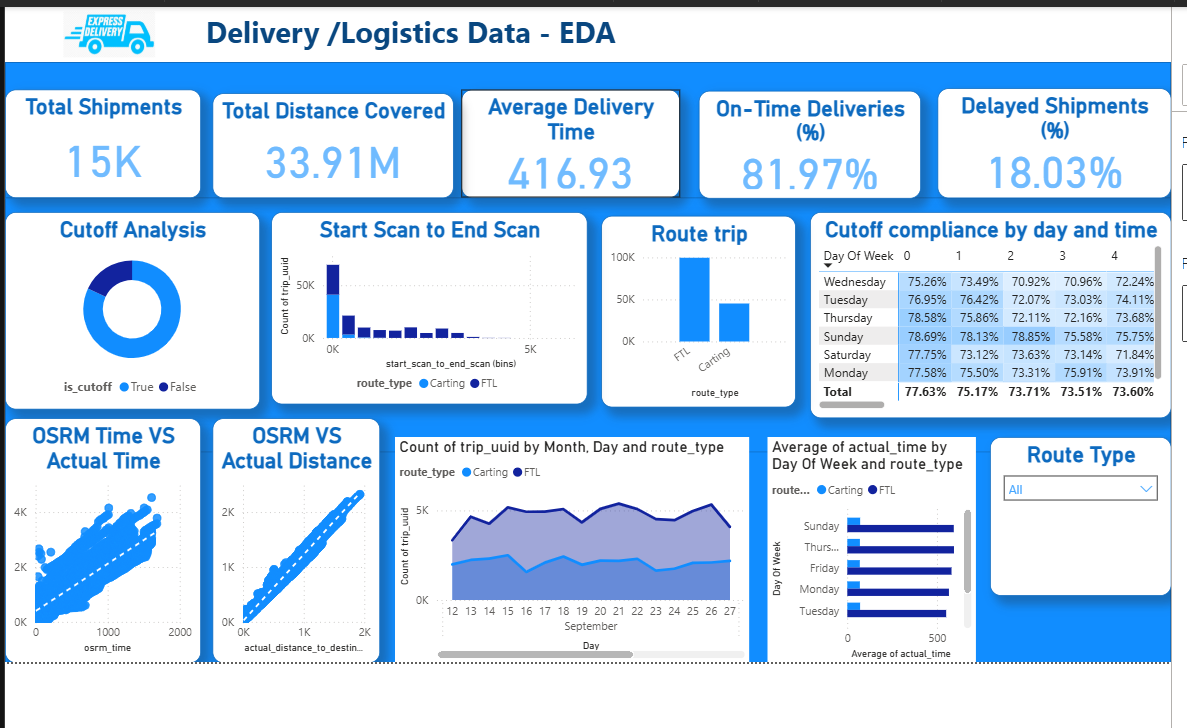

What the dashboard file says about the page in this screenshot:
{"tool":"powerbi","page":{"name":"Delivery Data EDA","canvas":[1280,720],"ordinal":0},"visuals":[{"type":"shape","box":[0,419.2,1280,301],"z":0},{"type":"shape","box":[0,187.8,1280,301],"z":1000},{"type":"shape","box":[0,59.9,1280,149.7],"z":2000},{"type":"card","title":"Total Shipments","fields":{"Values":["Delhivery.Total Shipments"]},"box":[0,77,215.2,119.7],"z":3000},{"type":"card","title":"Average Delivery Time","fields":{"Values":["Avg(Delhivery.actual_time)"]},"box":[493.2,75.5,239.5,119.7],"z":4000},{"type":"card","title":"Delayed Shipments (%)","fields":{"Values":["Delhivery.On-Time Deliveries (%)"]},"box":[1023.4,75.5,256.6,119.7],"z":5000},{"type":"card","title":"On-Time Deliveries (%)","fields":{"Values":["Delhivery.On-Time Deliveries (%)"]},"box":[761.2,75.5,245.2,119.7],"z":6000},{"type":"card","title":"Total Distance Covered","fields":{"Values":["Sum(Delhivery.actual_distance_to_destination)"]},"box":[215.2,75.5,265.1,119.7],"z":7000},{"type":"image","box":[0,0,228.1,59.9],"z":8000},{"type":"textbox","box":[215.2,0,1064.8,59.9],"z":9000},{"type":"donutChart","title":"Cutoff Analysis","fields":{"Category":["Delhivery.is_cutoff"],"Y":["CountNonNull(Delhivery.trip_uuid)"]},"box":[0,225.2,279.9,216.4],"z":10000},{"type":"pivotTable","title":"Cutoff compliance by day and time","fields":{"Rows":["Delhivery.Day Of Week"],"Columns":["Delhivery.Hour Of Day"],"Values":["Delhivery.On-Time Deliveries (%)"]},"box":[883.2,225.2,396.8,226.4],"z":11000},{"type":"scatterChart","title":"OSRM Time VS Actual Time","fields":{"X":["Delhivery.osrm_time"],"Y":["Delhivery.actual_time"]},"box":[0,451.6,215.2,268.7],"z":12000},{"type":"columnChart","title":"Route trip","fields":{"Category":["Delhivery.route_type"],"Y":["CountNonNull(Delhivery.trip_uuid)"]},"box":[654.3,228.9,214,210.2],"z":13000},{"type":"columnChart","title":"Start Scan to End Scan","fields":{"Category":["Delhivery.start_scan_to_end_scan (bins)"],"Y":["CountNonNull(Delhivery.trip_uuid)"],"Series":["Delhivery.route_type"]},"box":[292.3,225.2,347.1,211.5],"z":14000},{"type":"scatterChart","title":"OSRM VS  Actual Distance","fields":{"X":["Delhivery.actual_distance_to_destination"],"Y":["Delhivery.osrm_distance"]},"box":[227.6,451.6,184.1,268.7],"z":15000},{"type":"areaChart","fields":{"Category":["Delhivery.od_start_time.Variation.Date Hierarchy.Month","Delhivery.od_start_time.Variation.Date Hierarchy.Day"],"Y":["CountNonNull(Delhivery.trip_uuid)"],"Series":["Delhivery.route_type"]},"box":[427.6,471.8,389.1,248],"z":16000},{"type":"slicer","title":"Route Type","fields":{"Values":["Delhivery.route_type"]},"box":[1081.3,472,199,174.3],"z":17000},{"type":"clusteredBarChart","fields":{"Category":["Delhivery.Day Of Week"],"Y":["Avg(Delhivery.actual_time)"],"Series":["Delhivery.route_type"]},"box":[837.2,471.5,228.9,248.8],"z":18000}]}

Visuals, with their boxes in screenshot pixels (x1, y1, x2, y2):
shape: 0 386 1171 662
shape: 0 175 1171 450
shape: 0 58 1171 195
"Total Shipments" card: 0 74 197 183
"Average Delivery Time" card: 451 72 670 182
"Delayed Shipments (%)" card: 936 72 1171 182
"On-Time Deliveries (%)" card: 696 72 920 182
"Total Distance Covered" card: 197 72 439 182
image: 0 3 209 58
textbox: 197 3 1171 58
"Cutoff Analysis" donutChart: 0 209 256 407
"Cutoff compliance by day and time" pivotTable: 808 209 1171 416
"OSRM Time VS Actual Time" scatterChart: 0 416 197 662
"Route trip" columnChart: 598 212 794 405
"Start Scan to End Scan" columnChart: 267 209 585 402
"OSRM VS  Actual Distance" scatterChart: 208 416 377 662
areaChart - Delhivery.od_start_time.Variation.Date Hierarchy.Month x Delhivery.od_start_time.Variation.Date Hierarchy.Day: 391 435 747 661
"Route Type" slicer: 989 435 1171 594
clusteredBarChart - Delhivery.Day Of Week x Avg(Delhivery.actual_time): 766 434 975 662
